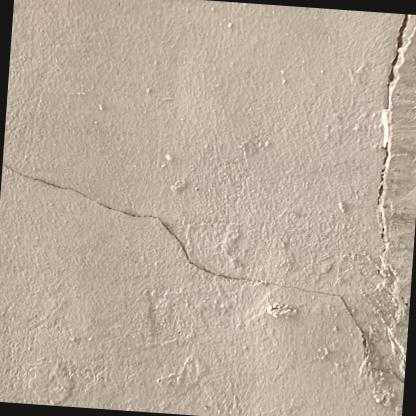crack: (2, 163, 403, 381), (375, 13, 410, 258)
